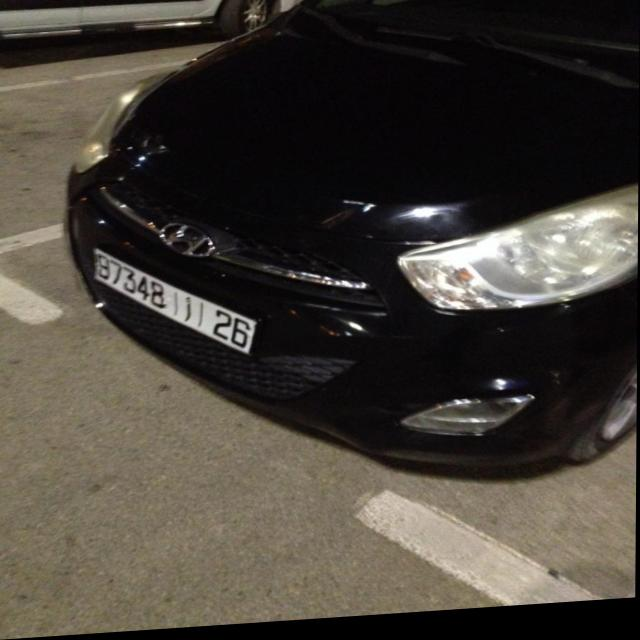License-Plate: (95, 251, 256, 356)
